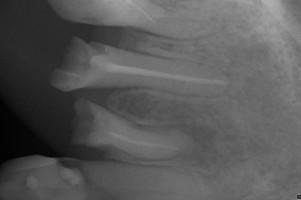Furcation Involvement: (169, 122, 220, 169)
